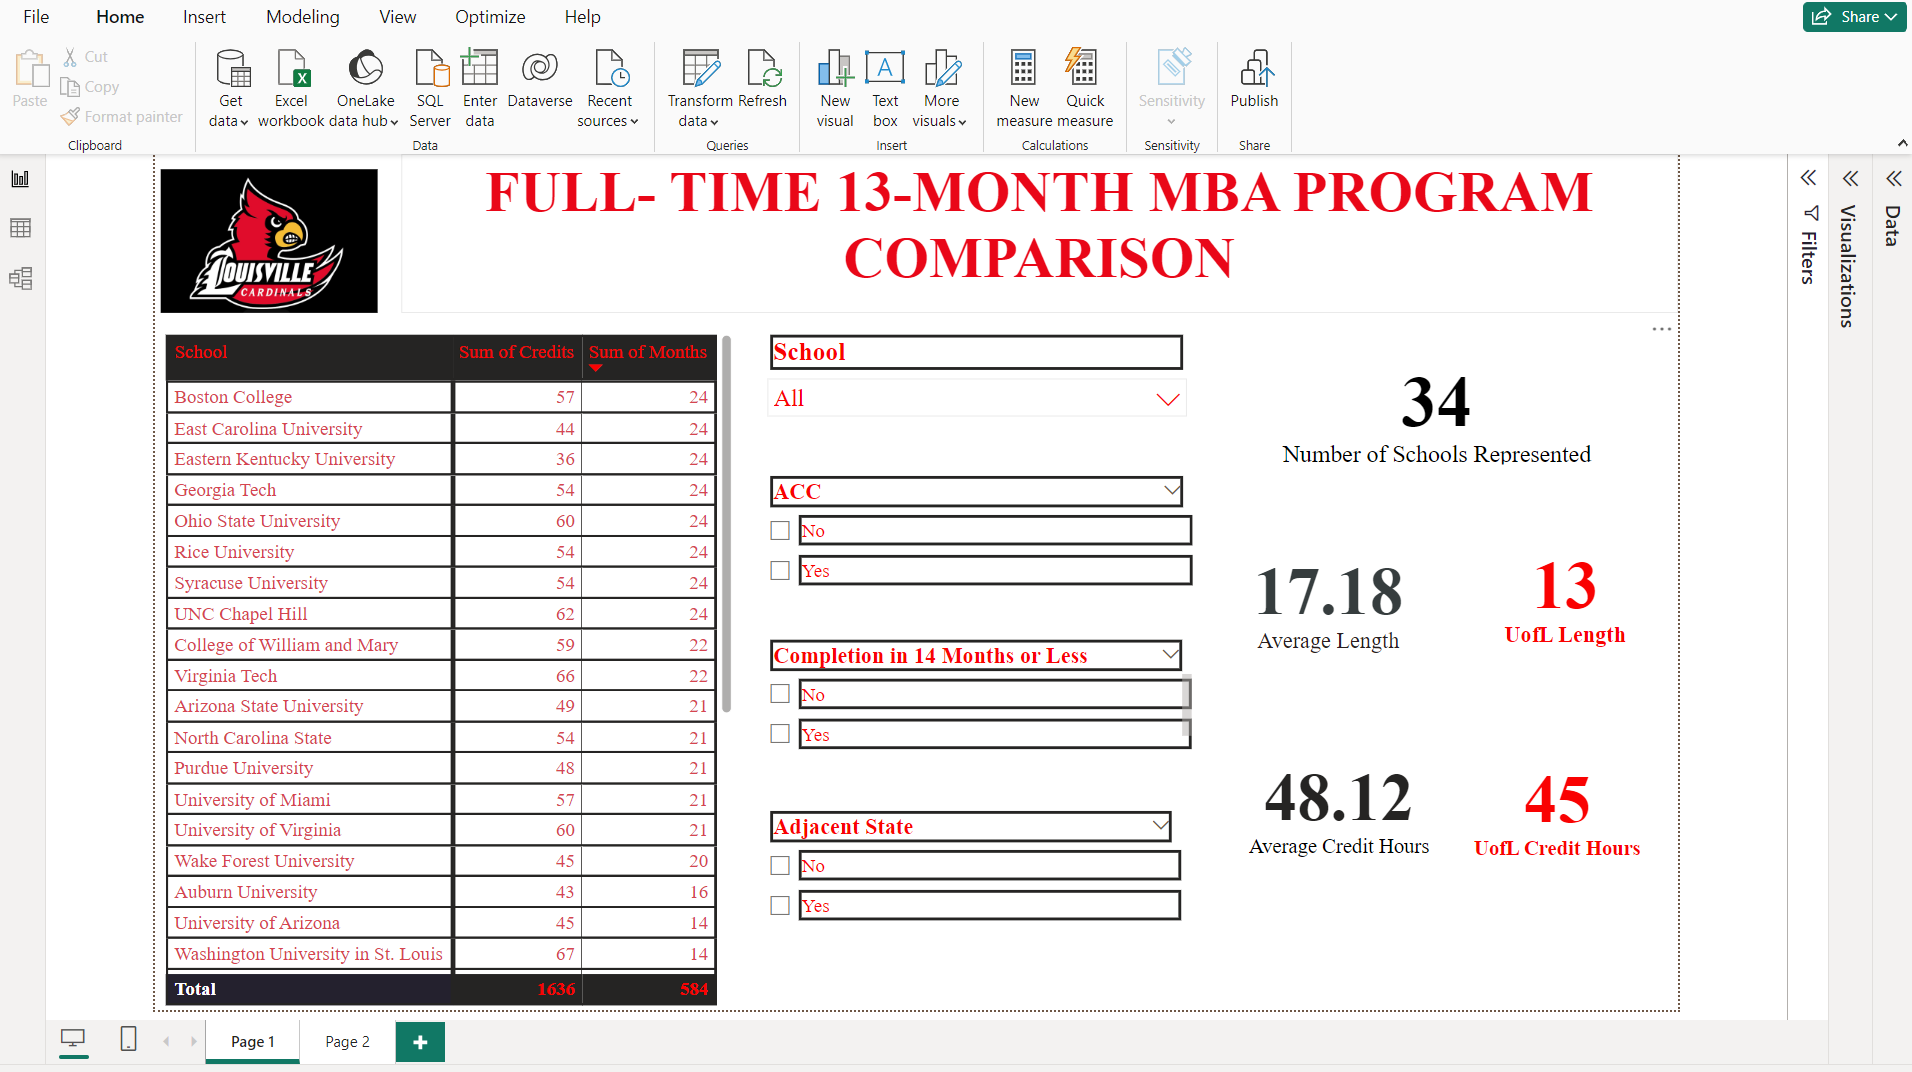

This screenshot's page, from the dashboard's own definition file:
{"tool":"powerbi","page":{"name":"Page 1","canvas":[1280,720],"ordinal":0},"visuals":[{"type":"pivotTable","fields":{"Rows":["Sheet1.School"],"Values":["Sum(Sheet1.Credits)","Sum(Sheet1.Months)"]},"box":[4.1,146.8,485.8,573.6],"z":0},{"type":"slicer","fields":{"Values":["Sheet1.School"]},"box":[505,146.8,373.2,78.2],"z":1000},{"type":"slicer","fields":{"Values":["Sheet1.Completion in 14 Months or Less"]},"box":[505,403.4,371.9,102.9],"z":2000},{"type":"slicer","fields":{"Values":["Sheet1.Adjacent State"]},"box":[505,547.5,363.6,118],"z":3000},{"type":"slicer","fields":{"Values":["Sheet1.ACC"]},"box":[505,266.2,373.2,107],"z":4000},{"type":"card","fields":{"Values":["Sheet1.Number of Schools Represented"]},"box":[913.9,161.9,329.3,104.3],"z":5000},{"type":"card","fields":{"Values":["Sheet1.Average Length"]},"box":[896.1,314.2,182.5,118],"z":6000},{"type":"card","fields":{"Values":["Sheet1.Average Credit Hours"]},"box":[913.9,485.8,164.7,120.8],"z":7000},{"type":"card","fields":{"Values":["Sheet1.UofL Length"]},"box":[1092.3,314.2,188,108.4],"z":8000},{"type":"card","fields":{"Values":["Sheet1.UofL Credit Hours"]},"box":[1078.6,488.5,201.7,118],"z":9000},{"type":"textbox","box":[207.2,57.6,448.7,75.5],"z":9002},{"type":"textbox","box":[207.2,0,1073.1,133.1],"z":9003},{"type":"image","box":[0,0,192.1,146.8],"z":9004}]}

Visuals, with their boxes on the page's 1280x720 design canvas (x1, y1, x2, y2). These are canvas units, not pixel positions in the 1912x1072 screenshot, which may show the page scaled, cropped or inside an application window:
pivotTable - Sheet1.School x Sum(Sheet1.Credits): [x1=4, y1=147, x2=490, y2=720]
slicer - Sheet1.School: [x1=505, y1=147, x2=878, y2=225]
slicer - Sheet1.Completion in 14 Months or Less: [x1=505, y1=403, x2=877, y2=506]
slicer - Sheet1.Adjacent State: [x1=505, y1=548, x2=869, y2=666]
slicer - Sheet1.ACC: [x1=505, y1=266, x2=878, y2=373]
card - Sheet1.Number of Schools Represented: [x1=914, y1=162, x2=1243, y2=266]
card - Sheet1.Average Length: [x1=896, y1=314, x2=1079, y2=432]
card - Sheet1.Average Credit Hours: [x1=914, y1=486, x2=1079, y2=607]
card - Sheet1.UofL Length: [x1=1092, y1=314, x2=1280, y2=423]
card - Sheet1.UofL Credit Hours: [x1=1079, y1=488, x2=1280, y2=606]
textbox: [x1=207, y1=58, x2=656, y2=133]
textbox: [x1=207, y1=0, x2=1280, y2=133]
image: [x1=0, y1=0, x2=192, y2=147]
